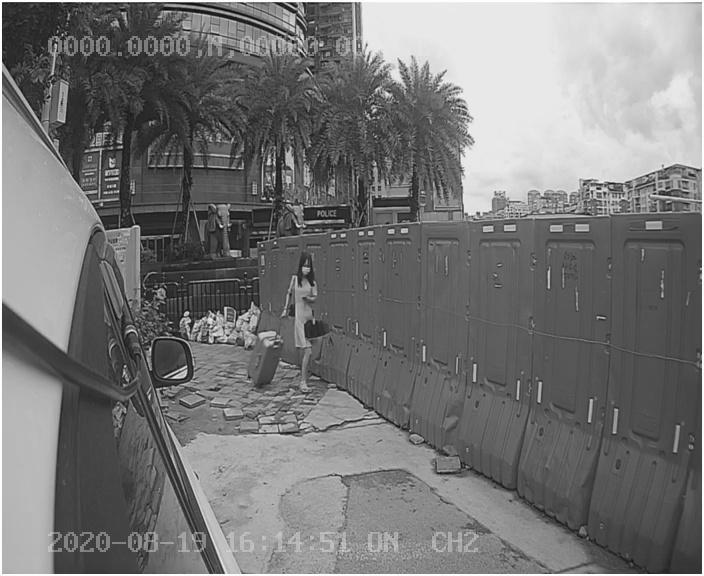person: (278, 249, 343, 403)
